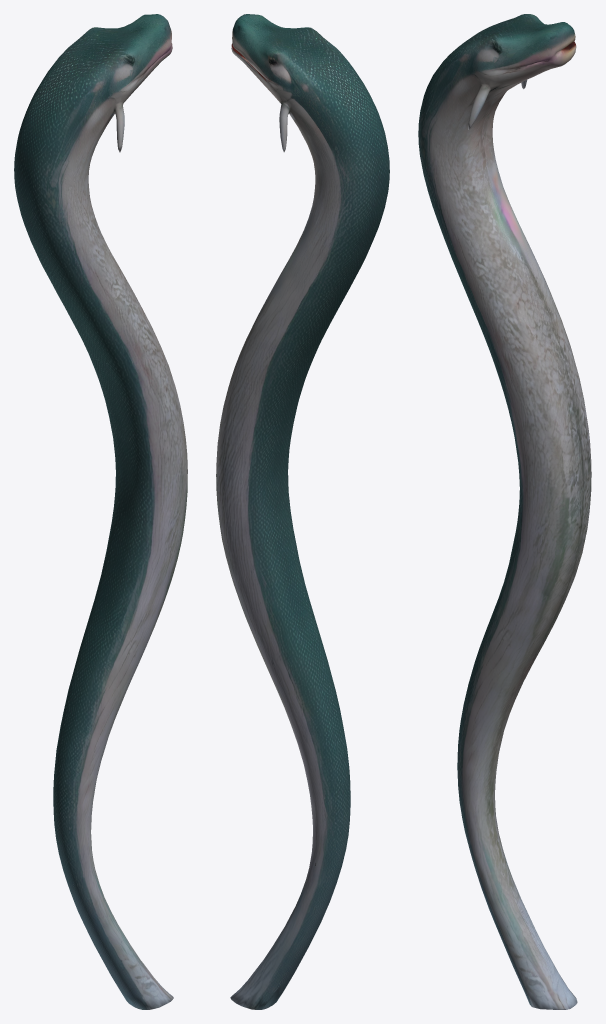
The model's file is 牛来-小绳头.fbx.
3 views of the same model, side by side, from view 1: azimuth 30°, elevation 25°; view 2: azimuth 150°, elevation 25°; view 3: azimuth 330°, elevation 25° (orthographic).
Visible parts, largest first — view 1: tripo_node_e6dcec9b; view 2: tripo_node_e6dcec9b; view 3: tripo_node_e6dcec9b.
Boxes of the visible parts, x1,y1,x2,y2 form: tripo_node_e6dcec9b: (14,14,187,1009); tripo_node_e6dcec9b: (216,14,389,1009); tripo_node_e6dcec9b: (418,14,591,1009).
Bounding box in the file's own units: 0.1665 × 1 × 0.1032.
1 material, 1 textured.
